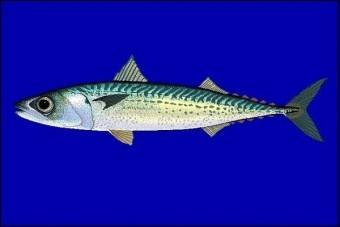fish: (15, 58, 325, 144)
